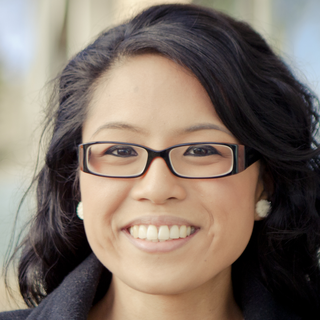eye: (180, 141, 227, 164), (96, 142, 141, 165)
